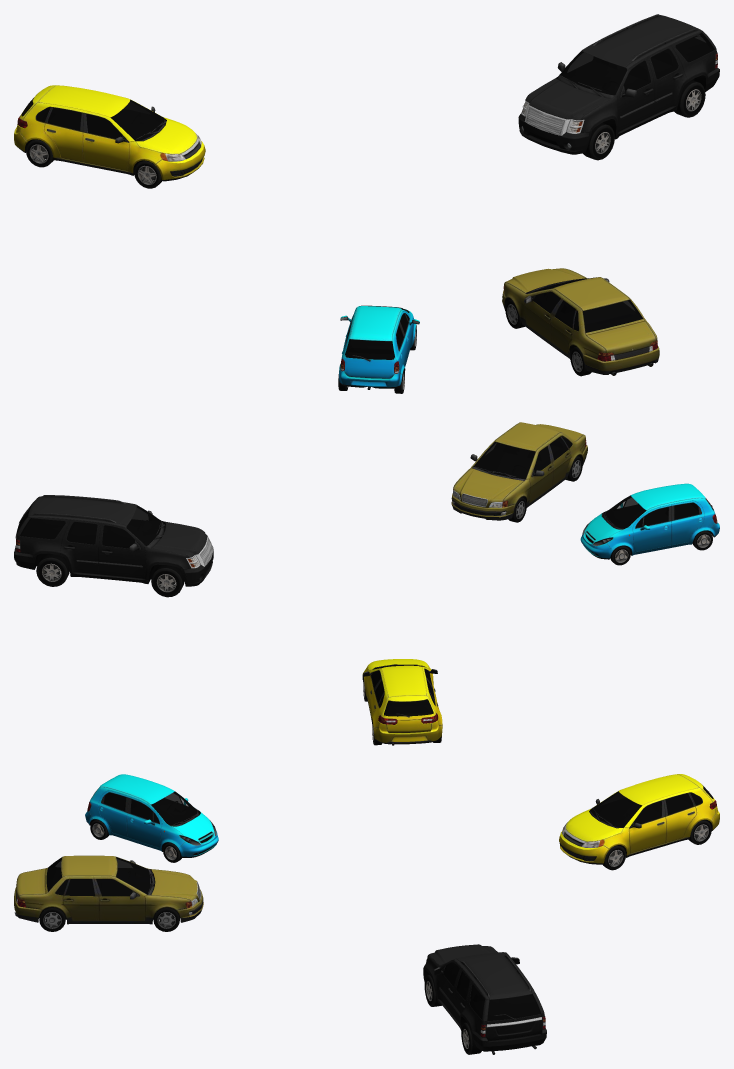
The model's file is voitures.glb.
3 views of the same model, one above another, from view 1: azimuth 30°, elevation 25°; view 2: azimuth 150°, elevation 25°; view 3: azimuth 270°, elevation 25° (orthographic). The views are drawn at different scales.
Parts seen in each view (by area): view 1: SUV Body, Hatchback Body, Sedan Body, Compact Body, Wheel_E001, Wheel_E, Wheel_B002, Wheel_B003; view 2: SUV Body, Sedan Body, Compact Body, Hatchback Body, Wheel_E003, Wheel_E002; view 3: Sedan Body, SUV Body, Hatchback Body, Compact Body, Wheel_A003, Wheel_A002.
Part boxes in pixels (x1,y1,x2,y2): SUV Body: [518, 14, 719, 154]; Hatchback Body: [14, 85, 205, 181]; Sedan Body: [502, 268, 659, 375]; Compact Body: [339, 305, 419, 389]; Wheel_E001: [674, 80, 705, 117]; Wheel_E: [583, 123, 614, 160]; Wheel_B002: [134, 160, 162, 188]; Wheel_B003: [26, 139, 53, 167]; SUV Body: [14, 495, 213, 586]; Sedan Body: [451, 422, 587, 520]; Compact Body: [580, 483, 719, 559]; Hatchback Body: [362, 659, 442, 745]; Wheel_E003: [36, 553, 69, 586]; Wheel_E002: [151, 565, 184, 597]; Sedan Body: [14, 855, 203, 924]; SUV Body: [423, 944, 546, 1054]; Hatchback Body: [559, 774, 719, 864]; Compact Body: [85, 774, 218, 857]; Wheel_A003: [39, 907, 65, 931]; Wheel_A002: [153, 907, 179, 931].
Bounding box in the file's own units: 13.7 × 1.74 × 16.21.
16 materials, 12 textured.
